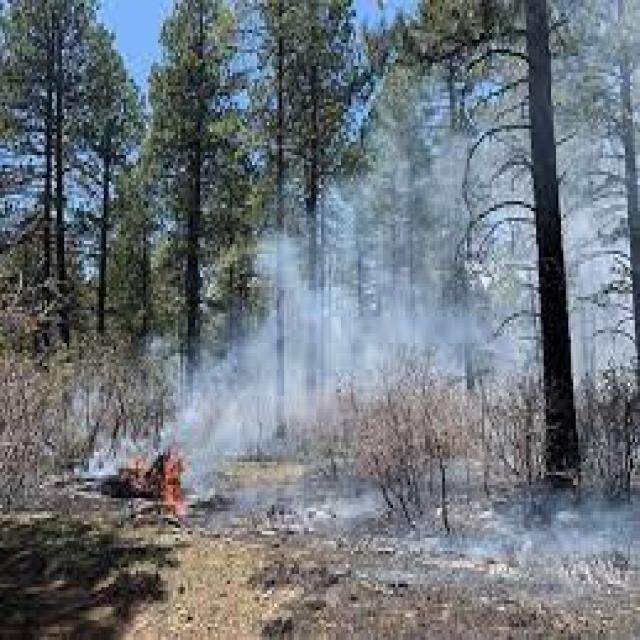Fire: (116, 447, 198, 520)
Smoke: (323, 199, 484, 369), (155, 354, 339, 442)
